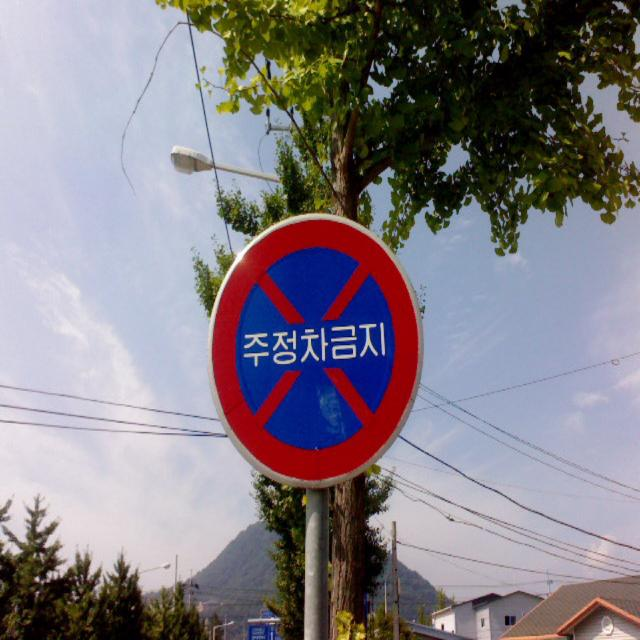regulatory_No_stop_or_parking: (197, 204, 433, 496)
